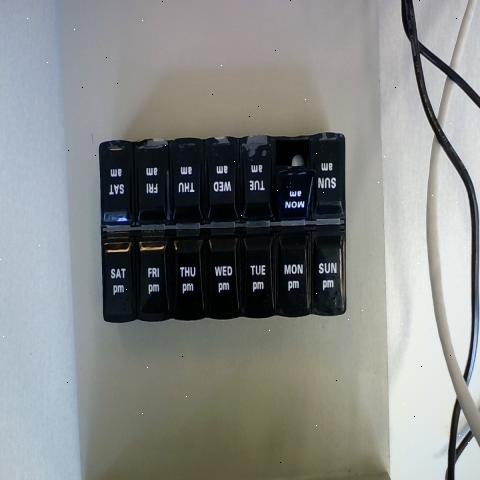FRI-am: (138, 142, 169, 222)
FRI-pm: (138, 244, 170, 316)
MON-pm: (276, 230, 310, 311)
Open: (278, 142, 311, 193)
PillBox: (86, 112, 362, 352)
SAT-am: (100, 141, 137, 223)
SAT-pm: (104, 237, 136, 317)
SUN-am: (312, 140, 344, 222)
SUN-pm: (312, 223, 345, 309)
THU-am: (170, 144, 205, 223)
THU-pm: (174, 237, 205, 314)
TUE-am: (242, 140, 276, 221)
TUE-pm: (244, 232, 273, 314)
WED-am: (208, 141, 242, 225)
WED-pm: (208, 231, 241, 312)
